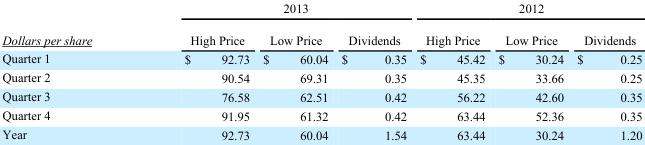table: (1, 1, 641, 141)
table column: (1, 1, 137, 141), (137, 1, 255, 141), (255, 1, 334, 141), (412, 1, 491, 141), (334, 1, 412, 141), (491, 1, 569, 141), (569, 1, 641, 141)
table column header: (1, 1, 641, 48)
table row: (1, 23, 641, 48), (1, 1, 641, 23), (1, 48, 641, 67), (1, 67, 641, 86), (1, 86, 641, 105), (1, 105, 641, 124), (1, 124, 641, 141)
table spanning cell: (1, 1, 137, 48), (137, 1, 412, 23), (412, 1, 641, 23)
